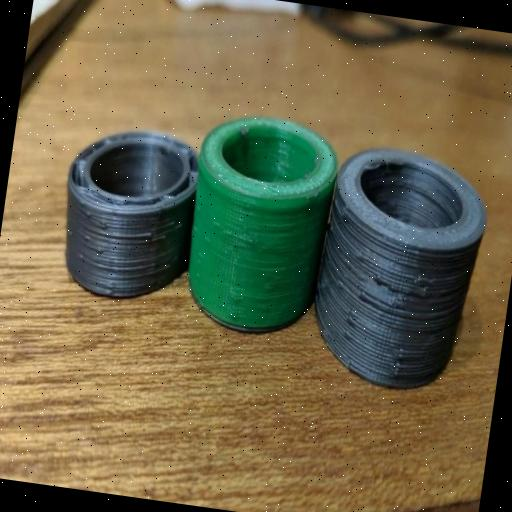blobs: (132, 210, 185, 254), (339, 304, 358, 344), (412, 270, 438, 298), (390, 342, 408, 378), (316, 274, 332, 300), (98, 216, 112, 235), (106, 276, 118, 295), (358, 289, 368, 307), (336, 275, 346, 291), (84, 206, 94, 220), (67, 224, 75, 240), (97, 240, 104, 258), (77, 249, 84, 264), (321, 330, 330, 340), (84, 231, 90, 245)
cracks: (372, 272, 410, 299)
